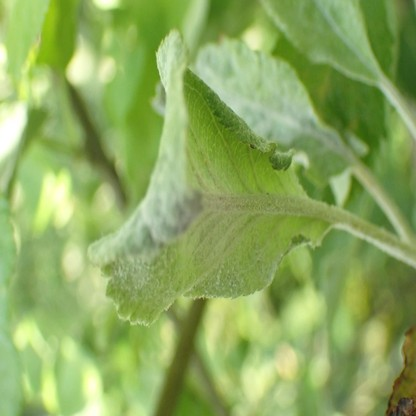powdery_mildew: (87, 26, 329, 330)
